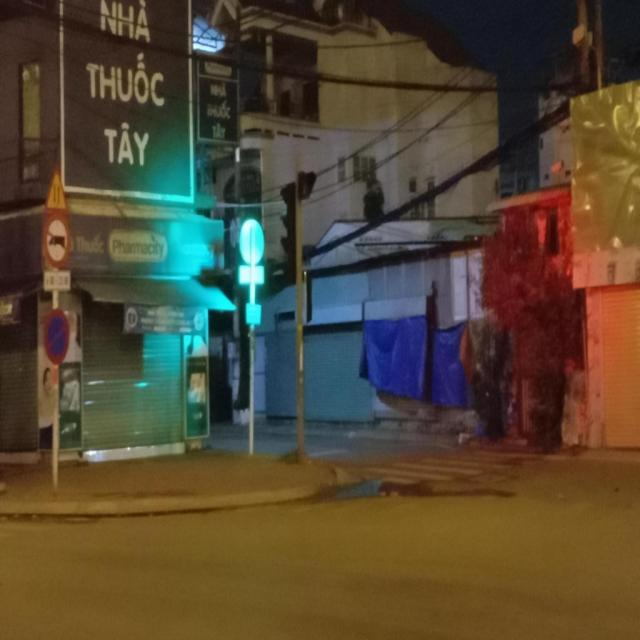cam_do_xe: (43, 308, 70, 364)
cam_o_to_tai: (42, 213, 72, 269)
khac: (43, 164, 69, 214), (44, 270, 70, 288)
